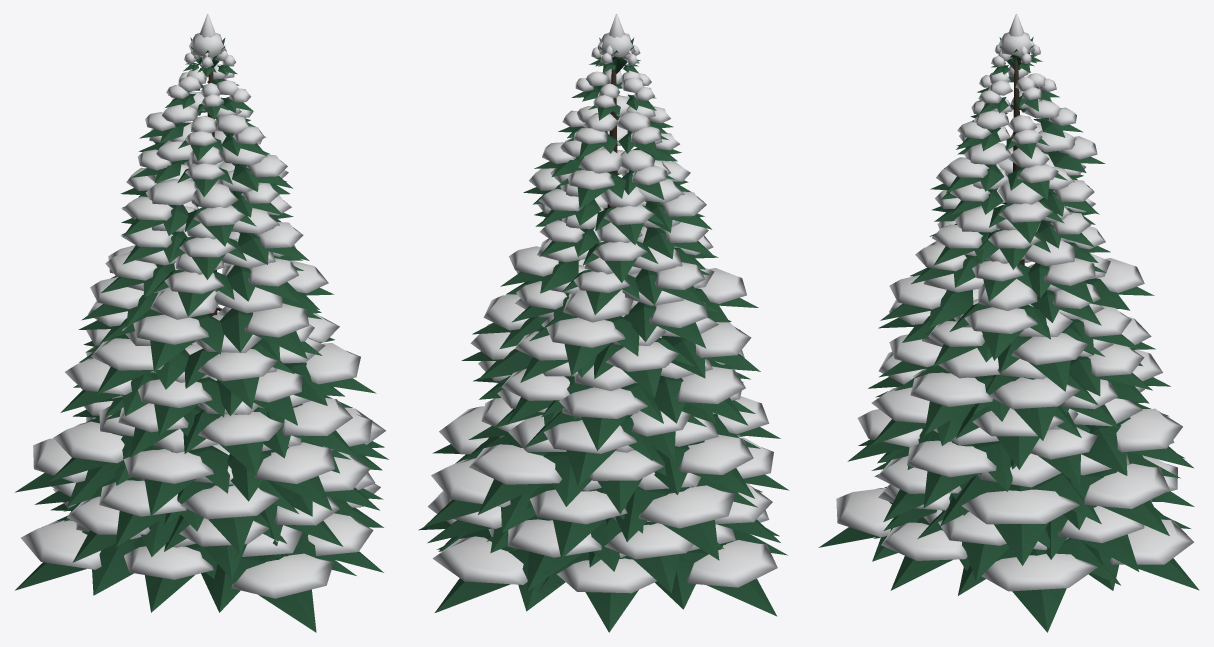
The model's file is todomatsu.glb.
3 views of the same model, side by side, from view 1: azimuth 30°, elevation 25°; view 2: azimuth 150°, elevation 25°; view 3: azimuth 270°, elevation 25° (orthographic). The views are drawn at different scales.
Parts seen in each view (by area): view 1: todomatsu; view 2: todomatsu; view 3: todomatsu.
Boxes of the visible parts, box(x1,y1,x2,y2) form: todomatsu: box(14, 14, 388, 632); todomatsu: box(418, 14, 789, 632); todomatsu: box(818, 14, 1199, 632).
Size of the model in its own units: 7.79 by 11.4 by 7.38.
